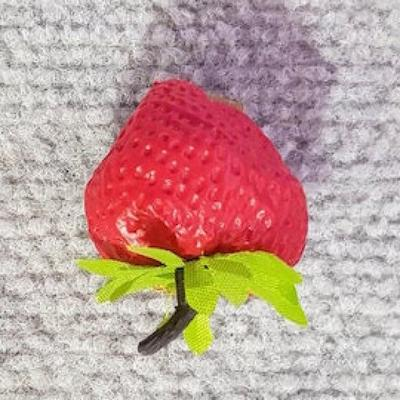strawberry: (0, 0, 400, 400)
